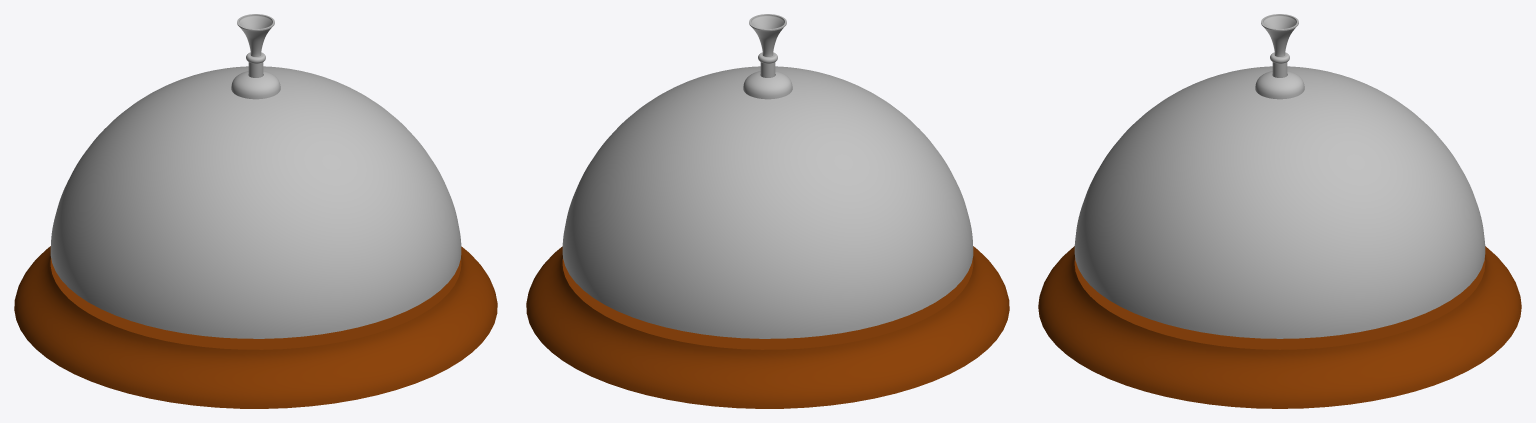
The picture shows the model from 3 angles, left to right: view 1: azimuth 30°, elevation 25°; view 2: azimuth 150°, elevation 25°; view 3: azimuth 270°, elevation 25°; orthographic projection.
Parts seen in each view (by area): view 1: Bell; view 2: Bell; view 3: Bell.
Boxes of the visible parts, left/top/right/bottom form: Bell: left=14, top=14, right=497, bottom=408; Bell: left=526, top=14, right=1009, bottom=408; Bell: left=1038, top=14, right=1521, bottom=408.
Size of the model in its own units: 8 by 5.2 by 8.
